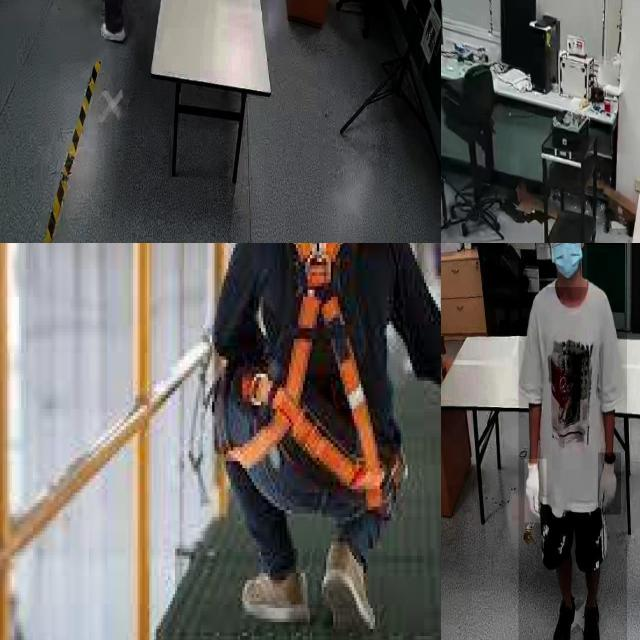Harness: (262, 243, 385, 497)
face_mask: (547, 243, 586, 287)
hand_glove: (598, 452, 622, 516), (525, 458, 547, 524)
person: (518, 243, 627, 640)
shoes: (549, 588, 575, 640), (576, 592, 604, 640), (96, 15, 128, 44)
